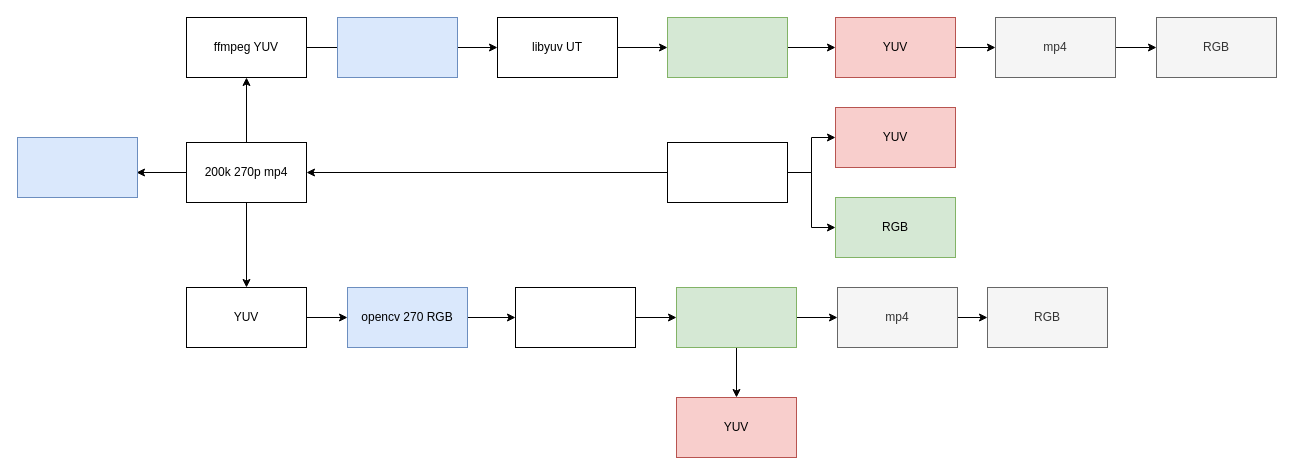
The diagram is 1294 pixels wide and 475 high, and some of its shapes have lost their labels. The box of each missing label's shape, as (x1, y1, x2, y2) in pixels:
360 RGB: (676, 286, 796, 348)
360p mp4: (666, 142, 788, 202)
ffmpeg RGB: (16, 136, 138, 198)
libyuv 输入 rgb save: (336, 16, 458, 78)
libyuv 输出 rgb: (666, 16, 788, 78)
pytorch 超分: (514, 286, 636, 348)
